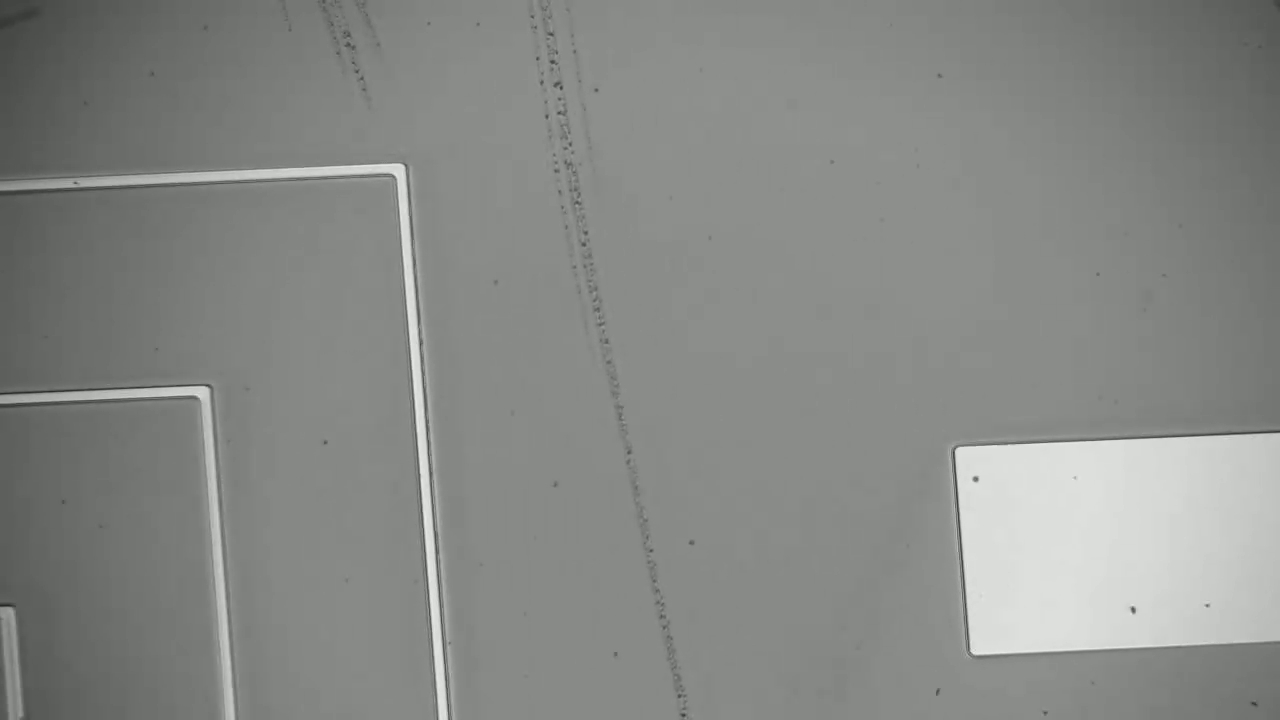scratch: (521, 1, 690, 714), (316, 1, 381, 97)
